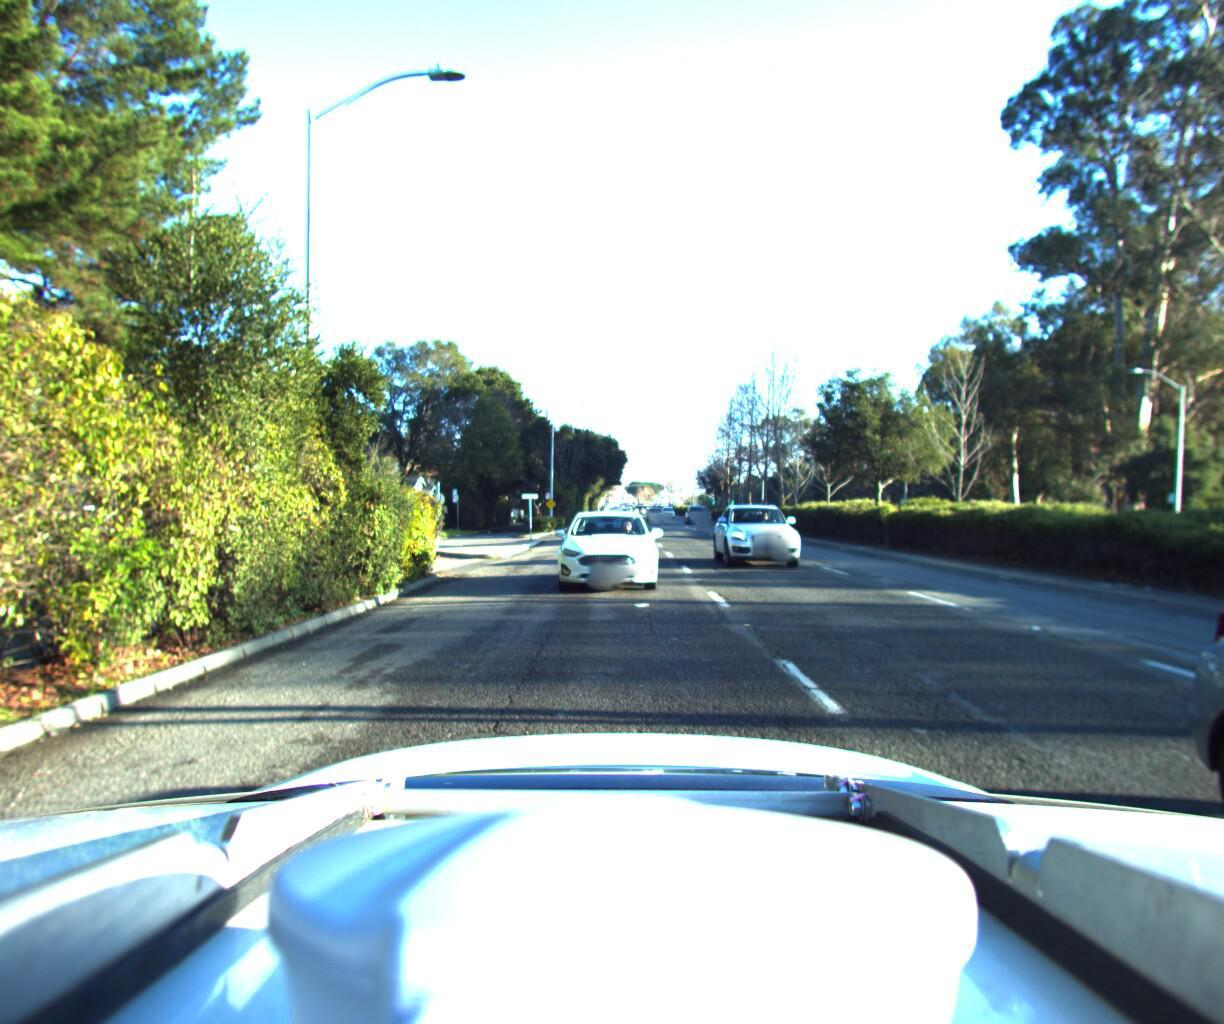car: (550, 503, 660, 592), (713, 497, 817, 573), (593, 495, 634, 531), (685, 499, 714, 520)
